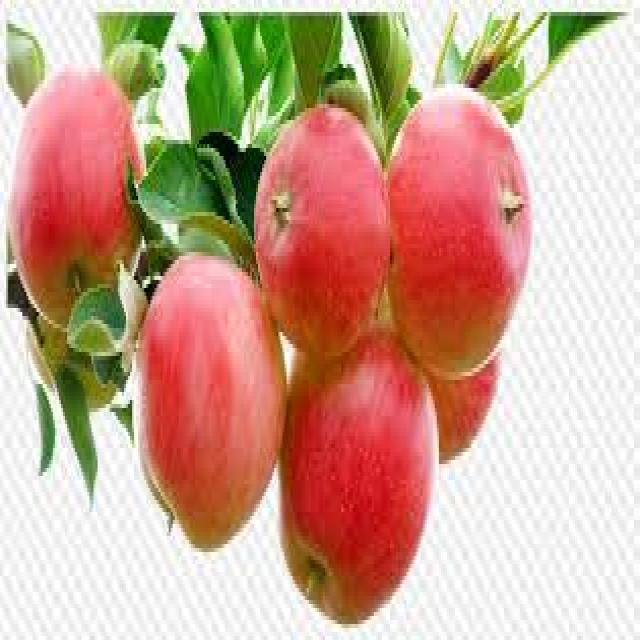non_orange: (262, 312, 451, 640), (369, 70, 546, 387), (3, 29, 175, 348), (128, 205, 280, 535), (233, 80, 388, 363), (357, 243, 518, 495)
